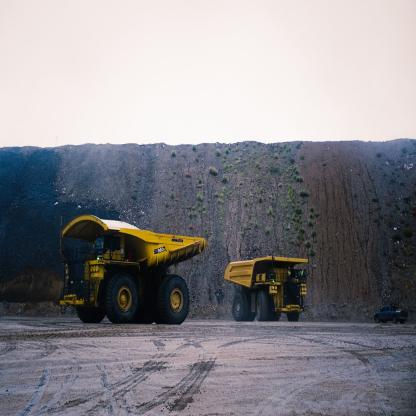dump_truck: (60, 209, 208, 325), (226, 252, 306, 325)
light_vehicle: (373, 301, 408, 332)
